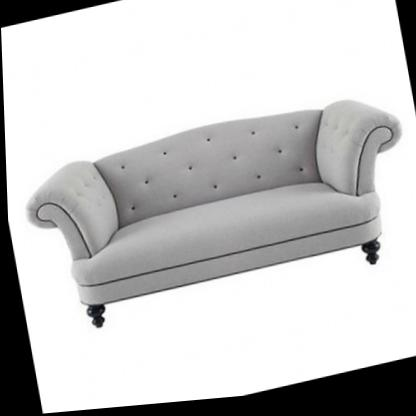Sofa: (18, 91, 416, 342)
